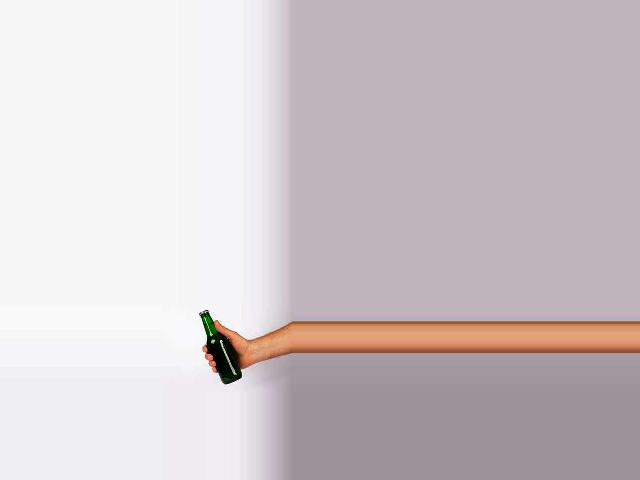beer: (200, 310, 242, 384)
